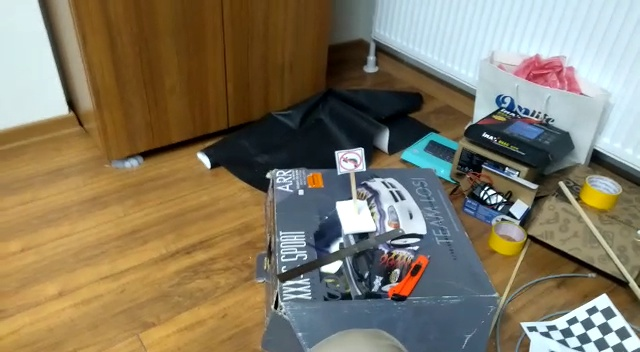sola_donulmez: (337, 148, 363, 175)
